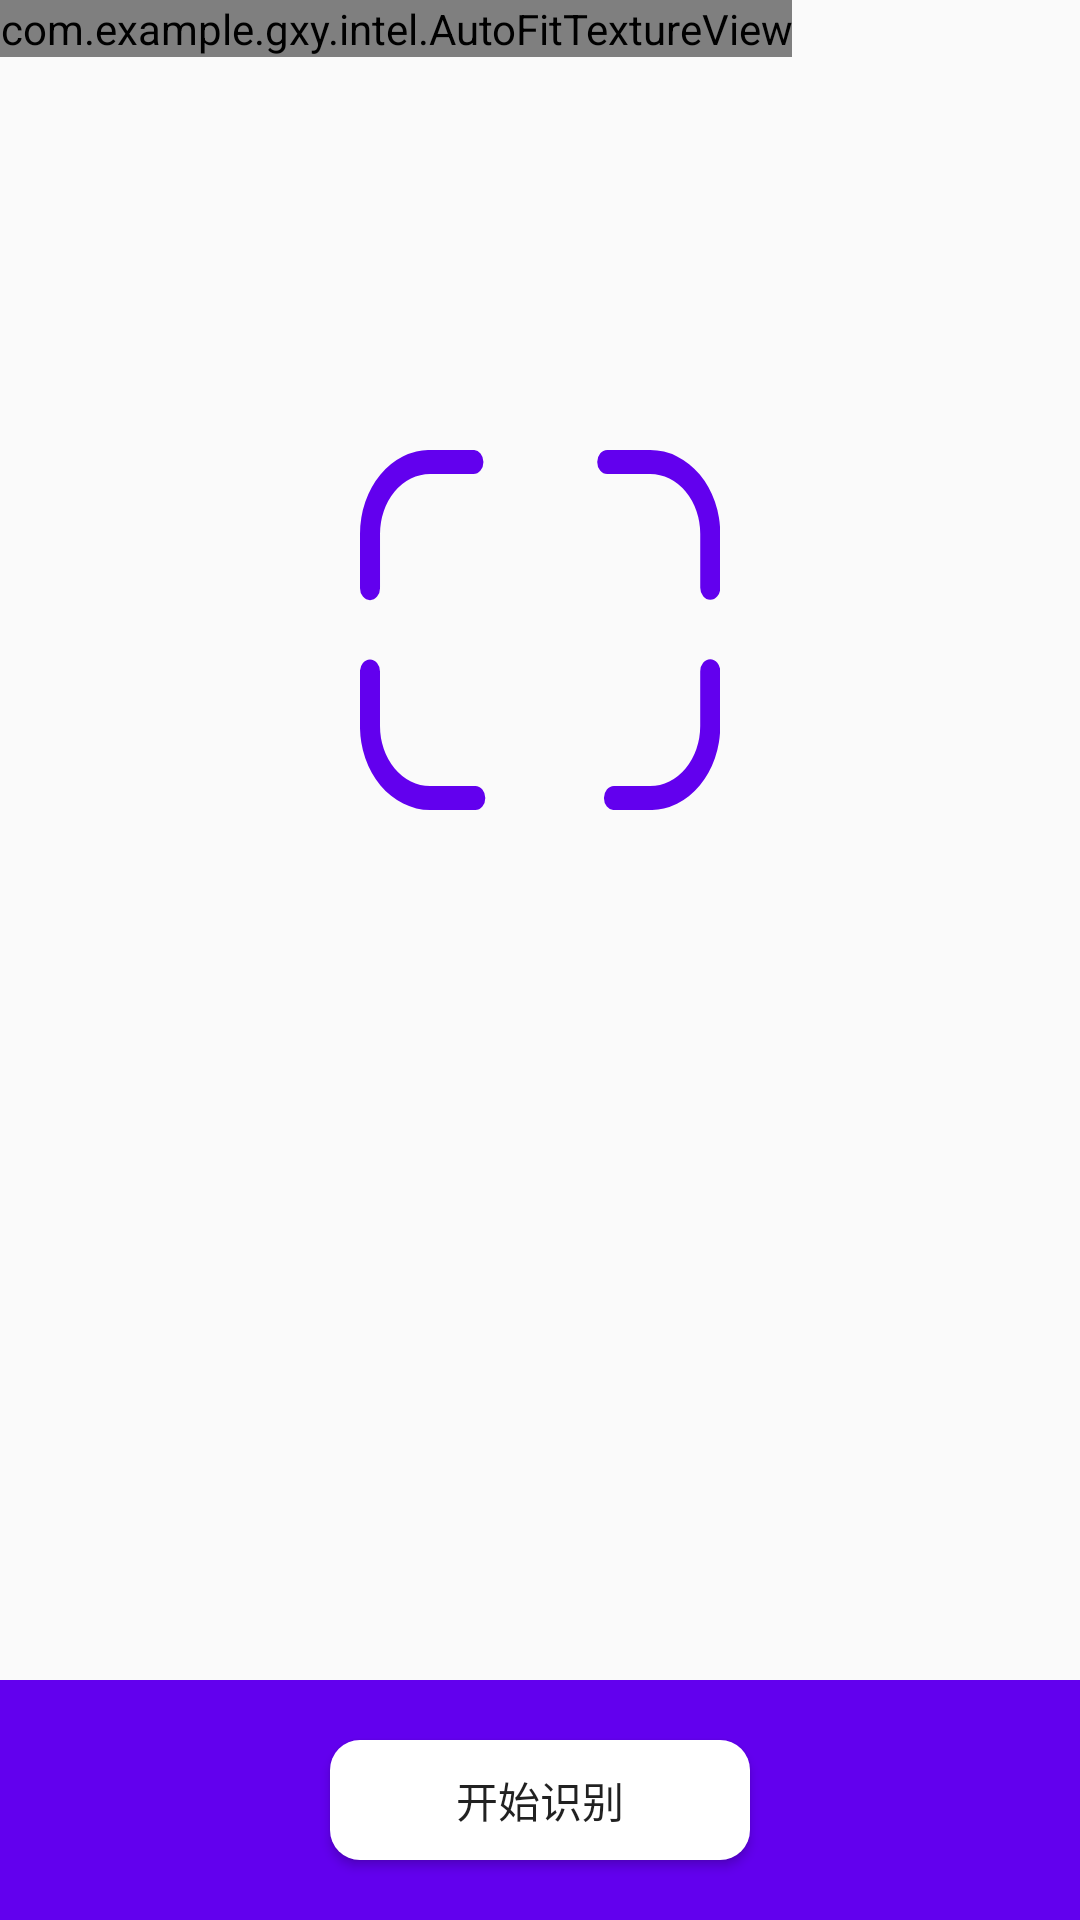

Screen size 1080x1920. Icon name, then its center in pixels as point (x, y):
scope: point (540, 630)
